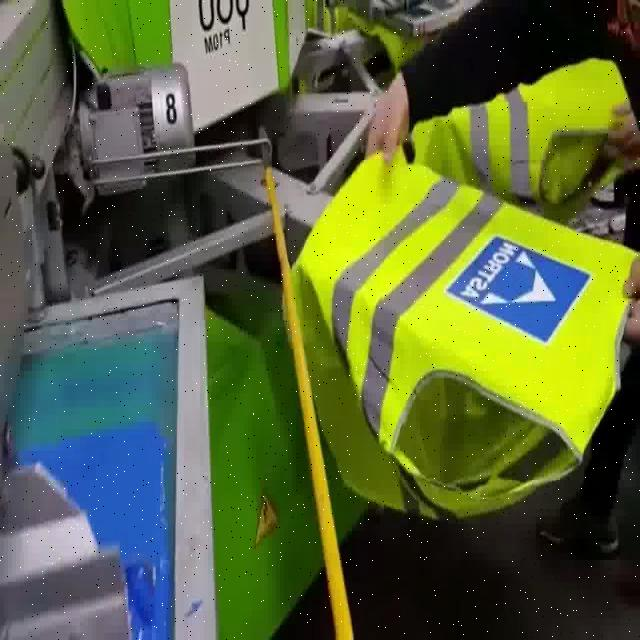Vest: (252, 119, 623, 530)
